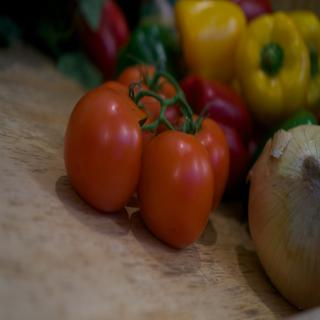tomato: (109, 63, 234, 251), (63, 79, 147, 208)
